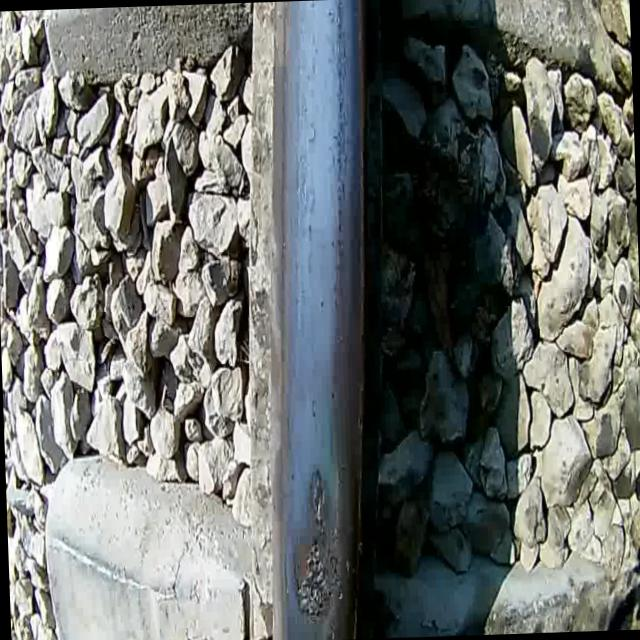Cracks: (306, 464, 328, 538)
Spallings: (289, 541, 346, 624)
Squats: (284, 454, 349, 640)
